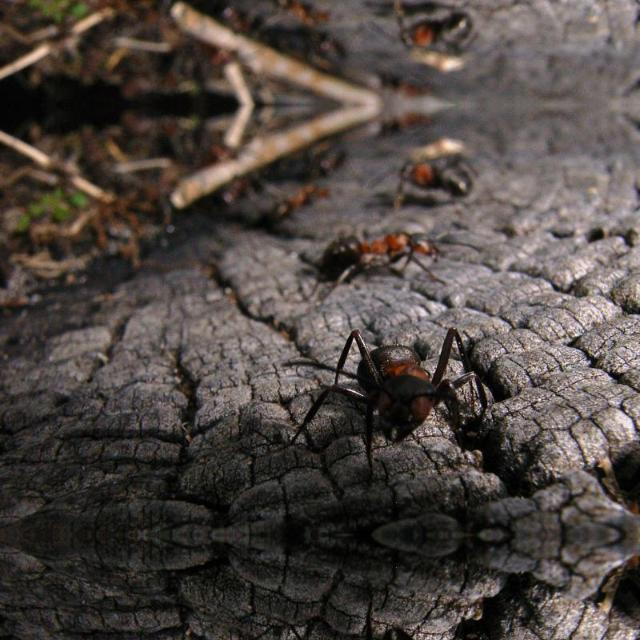Formica: (327, 312, 487, 456), (308, 216, 452, 286), (378, 141, 484, 203), (378, 5, 484, 67)
